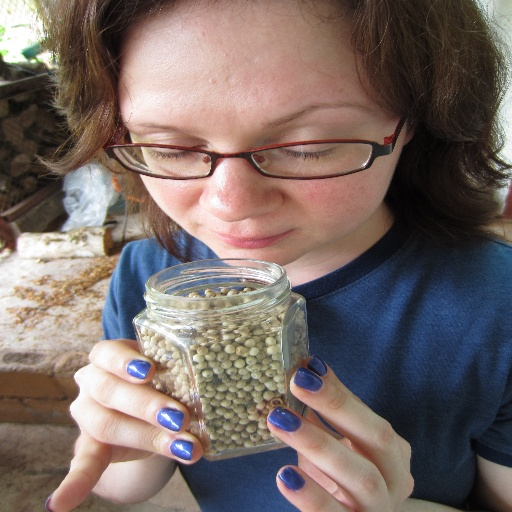hand: (43, 338, 204, 511), (263, 356, 420, 508)
